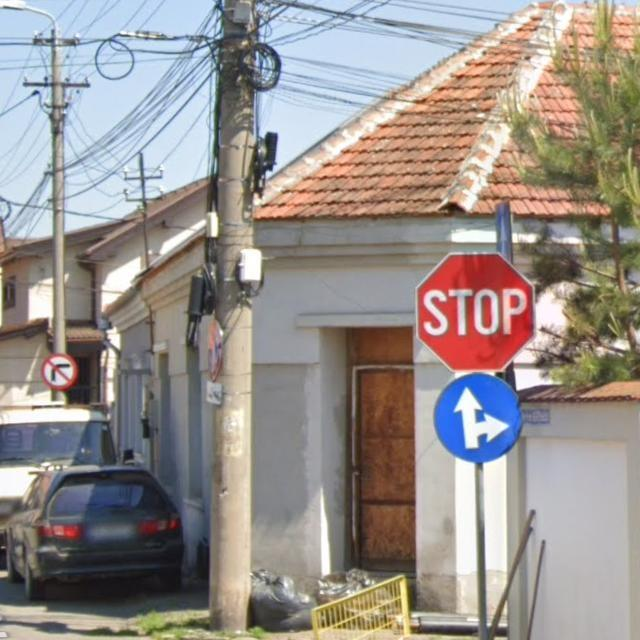prio_stop: (415, 252, 536, 373)
